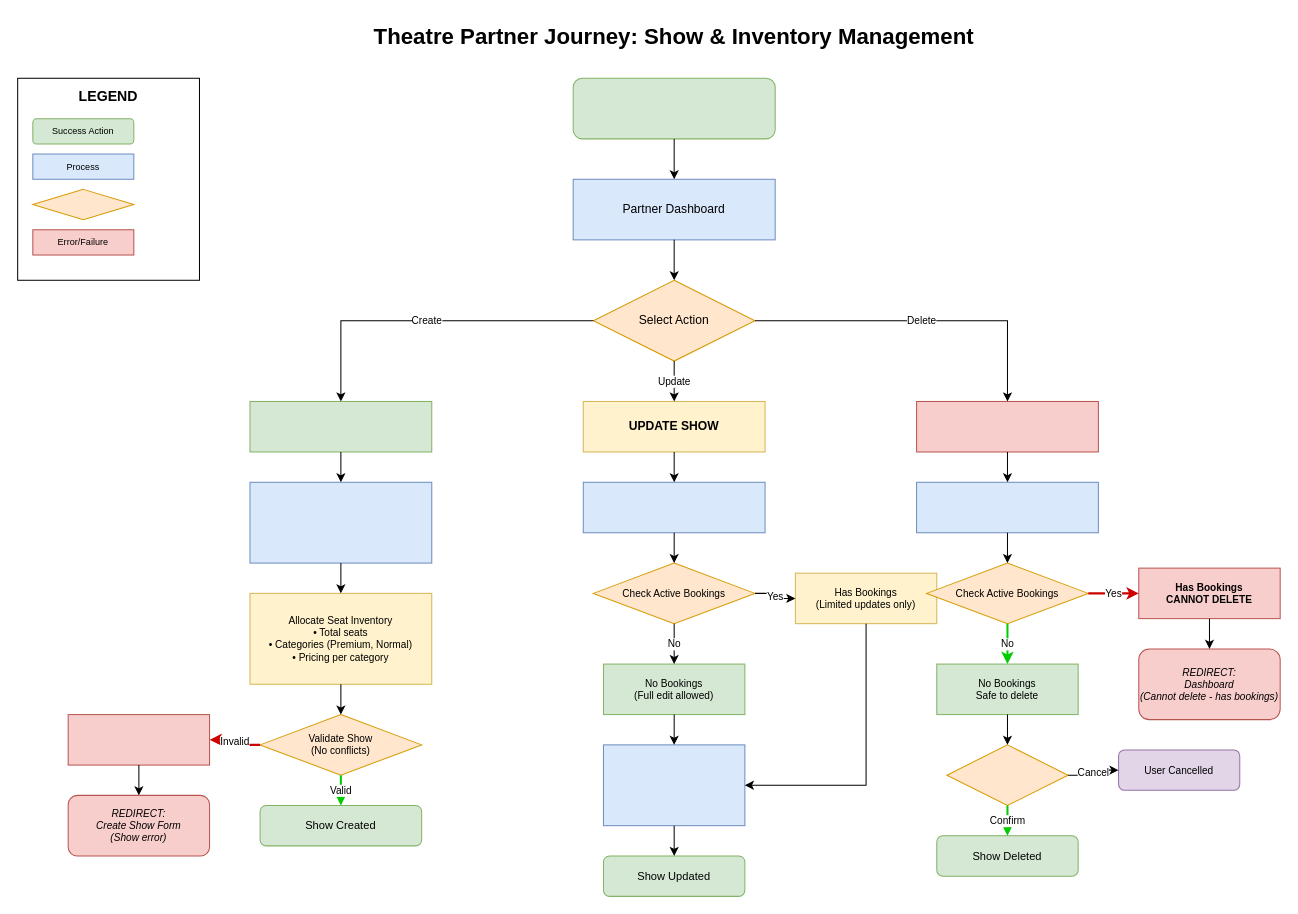
Image size: 1298x914. Some labels were removed from this diagram. The centre of each missing label's shape, as x and y in pixels:
Confirm Deletion: point (1007, 774)
CREATE SHOW: point (340, 426)
Decision: point (83, 204)
DELETE SHOW: point (1007, 426)
Fill Show Details • Movie • Date & Time • Screen • Pricing: point (340, 522)
Select Existing Show: point (673, 507)
Select Show to Delete: point (1007, 507)
Theatre Partner Login: point (673, 108)
Update Fields • Timing • Pricing • Seat availability: point (673, 785)
Validation Failed (Time conflict): point (138, 739)
